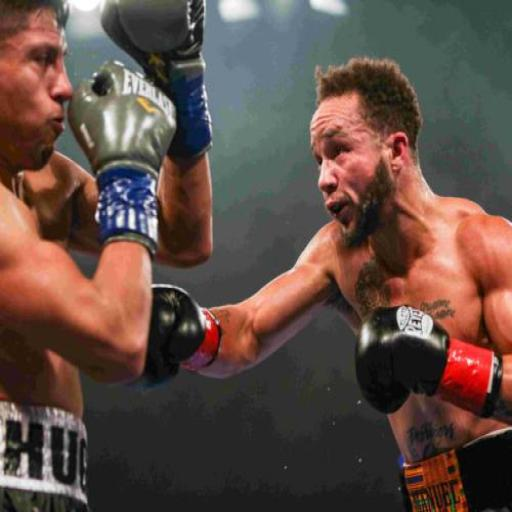boxing: (141, 54, 511, 510)
